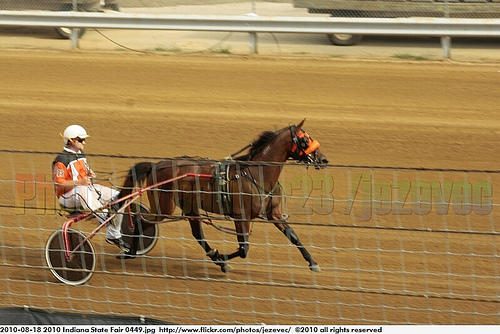horse: (122, 119, 328, 273)
